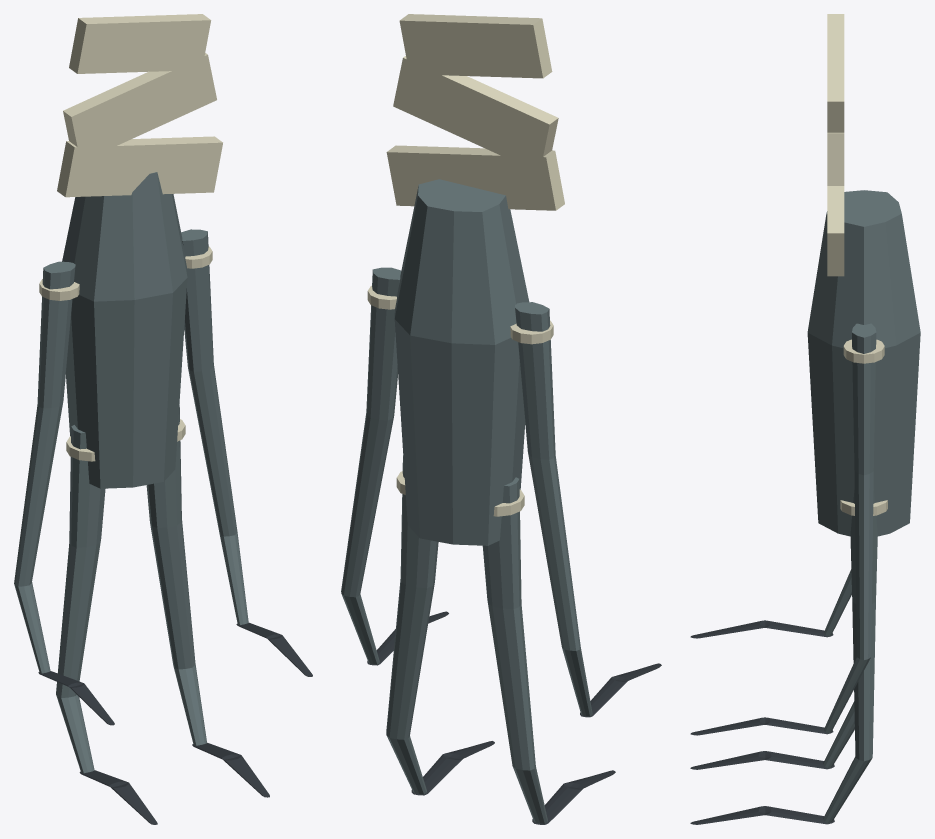
Rendered from stillwright.fbx.
3 renders of one model, left to right at view 1: azimuth 30°, elevation 25°; view 2: azimuth 150°, elevation 25°; view 3: azimuth 270°, elevation 25°, orthographic. The views are drawn at different scales.
Parts seen in each view (by area): view 1: leaning_scribe, arm_0_skin.003, arm_1_skin.003, crossed_veil_0, leg_0_skin.003, crossed_veil_1, crossed_veil_2, leg_1_skin.003, leg_1_hook.003, leg_0_hook.003, arm_0_hook.003, arm_1_hook.003; view 2: leaning_scribe, arm_0_skin.003, arm_1_skin.003, crossed_veil_1, leg_0_skin.003, crossed_veil_2, crossed_veil_0, leg_1_skin.003, leg_1_hook.003, leg_0_hook.003, arm_0_hook.003, arm_0_joint.003; view 3: leaning_scribe, arm_1_skin.003, leg_1_skin.003, crossed_veil_2, crossed_veil_0, leg_1_hook.003, leg_0_hook.003, crossed_veil_1, arm_0_hook.003, arm_1_hook.003, leg_0_skin.003, arm_0_skin.003 (+1 smaller).
Boxes of the visible parts, bbox=[...] form: leaning_scribe: bbox=[62, 172, 187, 488]; arm_0_skin.003: bbox=[14, 261, 75, 673]; arm_1_skin.003: bbox=[181, 229, 248, 624]; crossed_veil_0: bbox=[57, 136, 222, 197]; leg_0_skin.003: bbox=[56, 425, 105, 773]; crossed_veil_1: bbox=[63, 53, 216, 161]; crossed_veil_2: bbox=[69, 14, 211, 73]; leg_1_skin.003: bbox=[146, 404, 206, 745]; leg_1_hook.003: bbox=[192, 742, 269, 797]; leg_0_hook.003: bbox=[79, 770, 157, 824]; arm_0_hook.003: bbox=[38, 671, 114, 725]; arm_1_hook.003: bbox=[236, 622, 312, 676]; leaning_scribe: bbox=[394, 179, 529, 545]; arm_0_skin.003: bbox=[514, 302, 592, 716]; arm_1_skin.003: bbox=[341, 267, 401, 664]; crossed_veil_1: bbox=[393, 56, 558, 170]; leg_0_skin.003: bbox=[482, 477, 547, 823]; crossed_veil_2: bbox=[399, 14, 552, 78]; crossed_veil_0: bbox=[386, 145, 564, 210]; leg_1_skin.003: bbox=[386, 455, 438, 794]; leg_1_hook.003: bbox=[411, 741, 494, 795]; leg_0_hook.003: bbox=[532, 770, 615, 824]; arm_0_hook.003: bbox=[580, 663, 661, 717]; arm_0_joint.003: bbox=[510, 320, 553, 344]; leaning_scribe: bbox=[807, 190, 920, 536]; arm_1_skin.003: bbox=[824, 323, 876, 733]; leg_1_skin.003: bbox=[823, 489, 877, 823]; crossed_veil_2: bbox=[827, 14, 844, 132]; crossed_veil_0: bbox=[827, 186, 844, 276]; leg_1_hook.003: bbox=[690, 806, 834, 824]; leg_0_hook.003: bbox=[690, 751, 834, 769]; crossed_veil_1: bbox=[827, 132, 844, 185]; arm_0_hook.003: bbox=[690, 620, 833, 638]; arm_1_hook.003: bbox=[690, 717, 833, 735]; leg_0_skin.003: bbox=[823, 701, 854, 768]; arm_0_skin.003: bbox=[824, 569, 851, 636].
Bounding box in the file's own units: 90.86 × 293 × 81.35.
